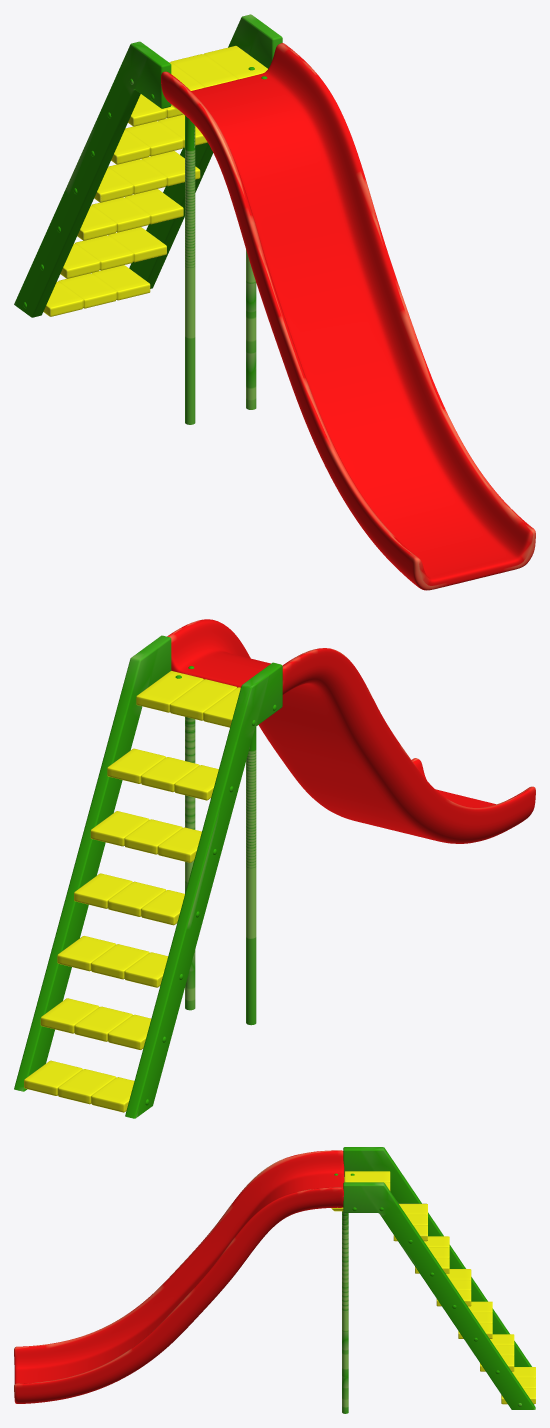
Rendered from Resbaladilla.obj.
3 views of the same model, one above another, from view 1: azimuth 30°, elevation 25°; view 2: azimuth 150°, elevation 25°; view 3: azimuth 270°, elevation 25° (orthographic). The views are drawn at different scales.
Parts seen in each view (by area): view 1: Slide; view 2: Slide; view 3: Slide.
Boxes of the visible parts, x1,y1,x2,y2 form: Slide: [14, 14, 535, 590]; Slide: [14, 619, 535, 1118]; Slide: [14, 1147, 535, 1413].
Bounding box in the file's own units: 64.92 × 182 × 363.
1 material, 1 textured.
